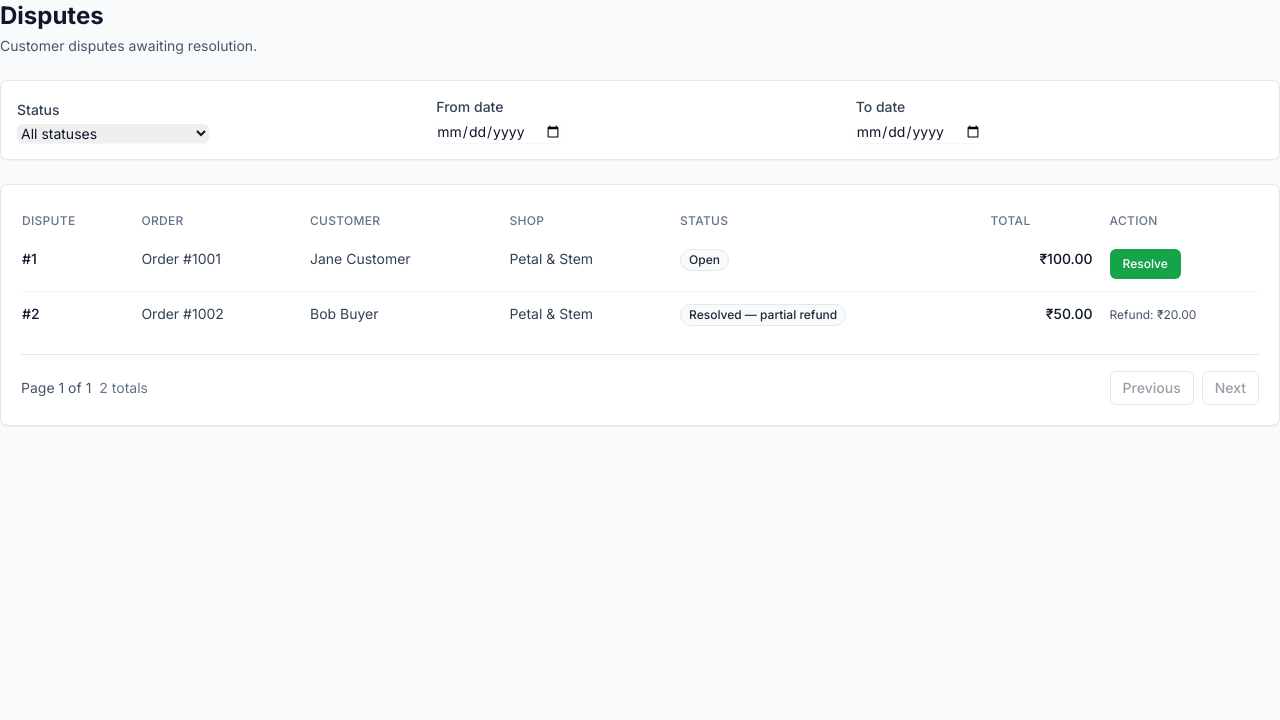
Test case: AdminDisputesPage › rejects partial refund exceeding order total
Click the button "Resolve": (1145,264) [1110, 249, 1181, 279]
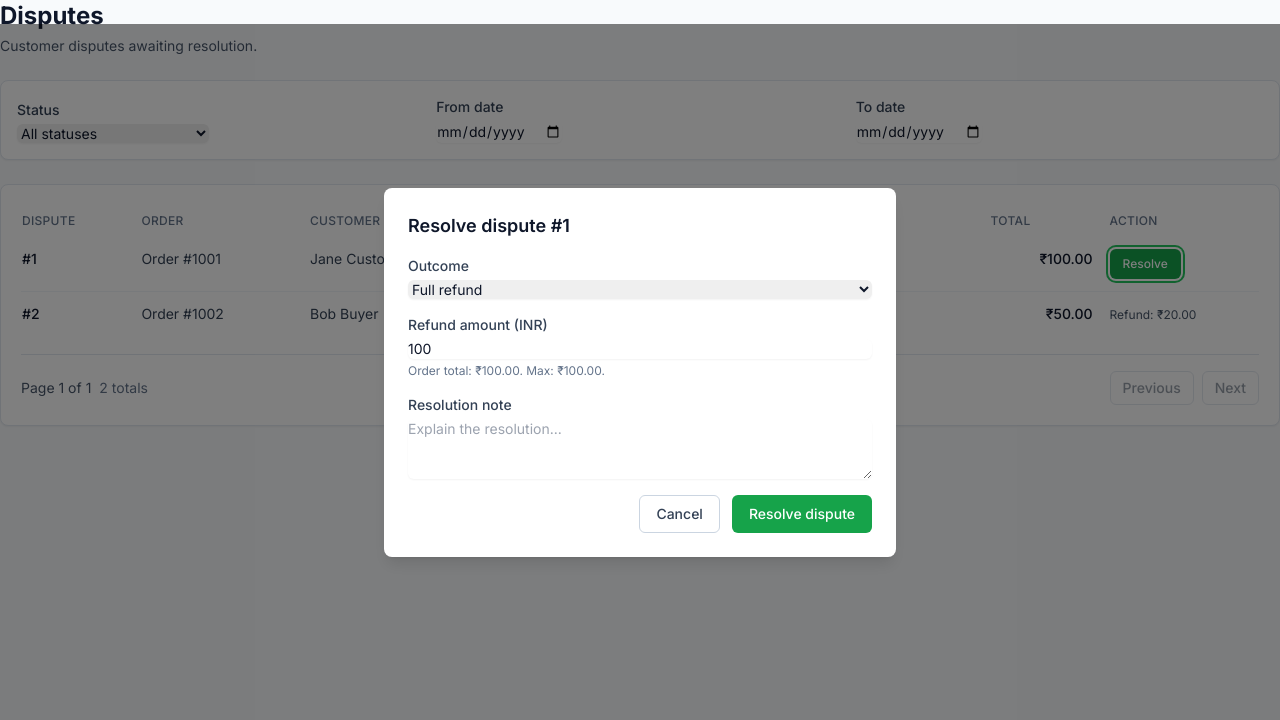
Now the dropdown labelled "Outcome" is shown
Select "Partial refund" in the dropdown labelled "Outcome": (640,289) [408, 280, 872, 298]
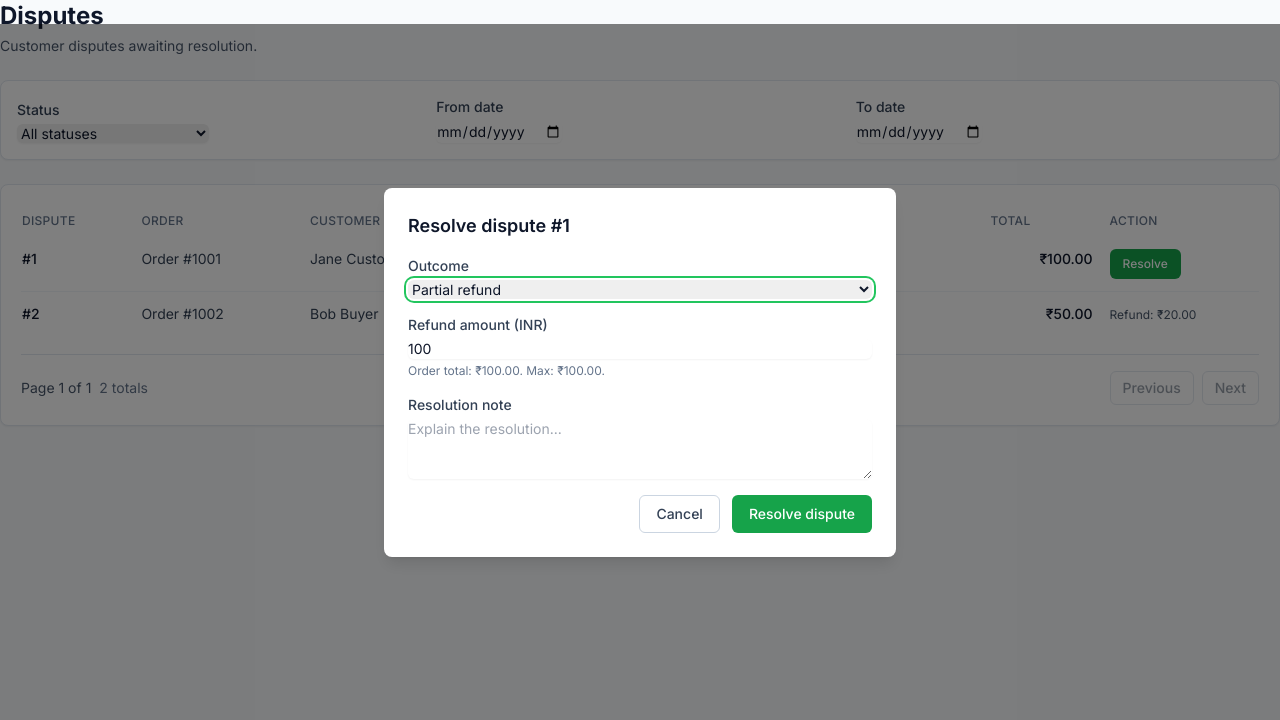
In the number field labelled "Refund amount (INR)": (640,348) [408, 338, 872, 358], type "150"
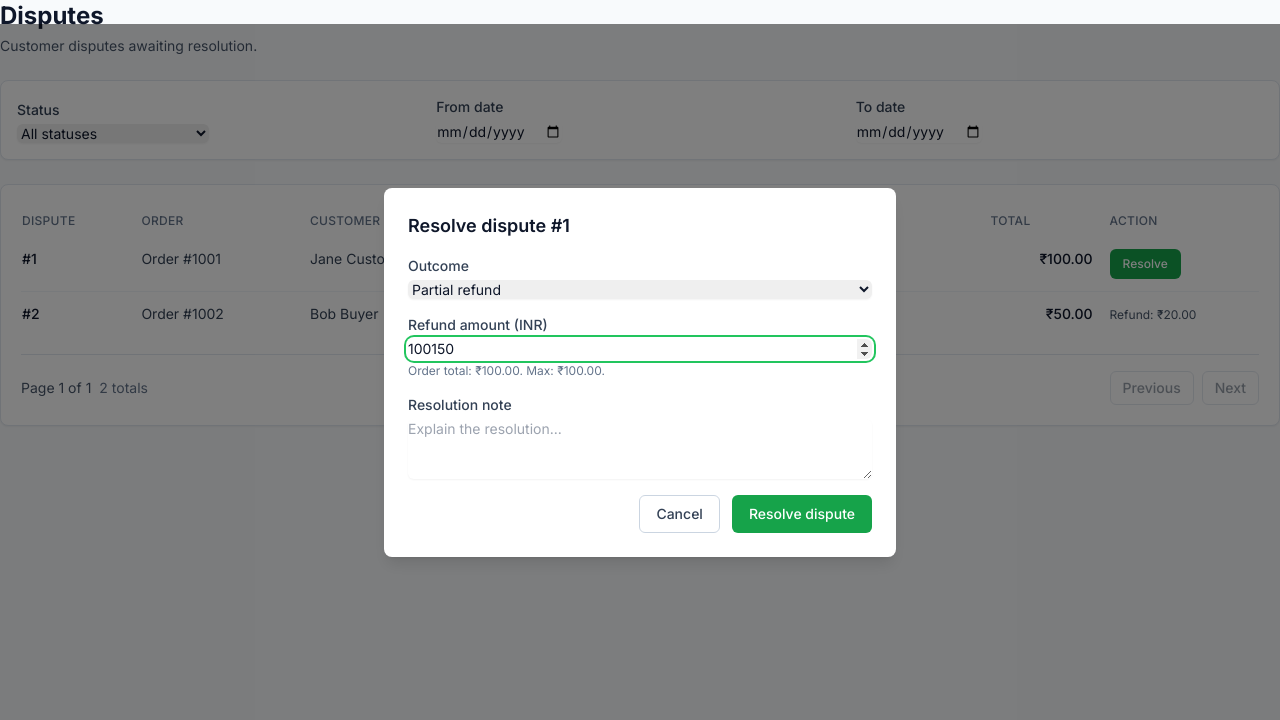
In the text box labelled "Resolution note": (640,448) [408, 418, 872, 478], type "Partial refund"
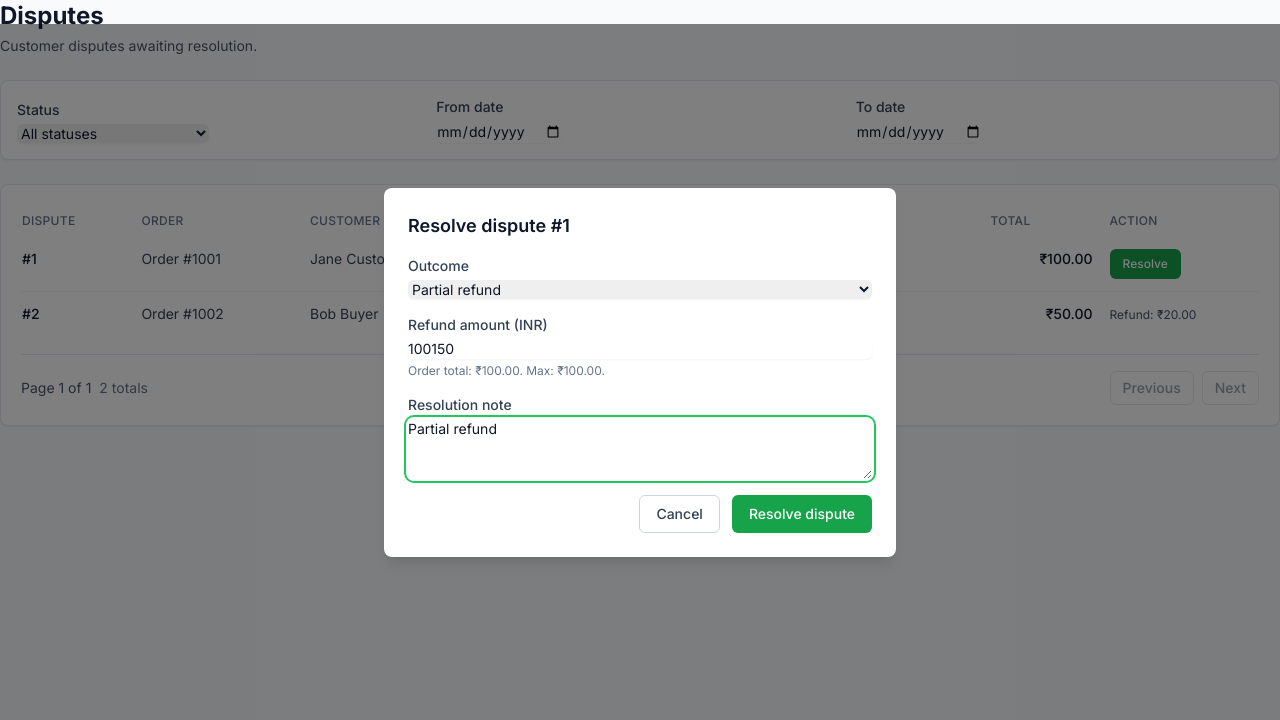
Click the button "Resolve dispute": (802,514) [732, 494, 872, 532]
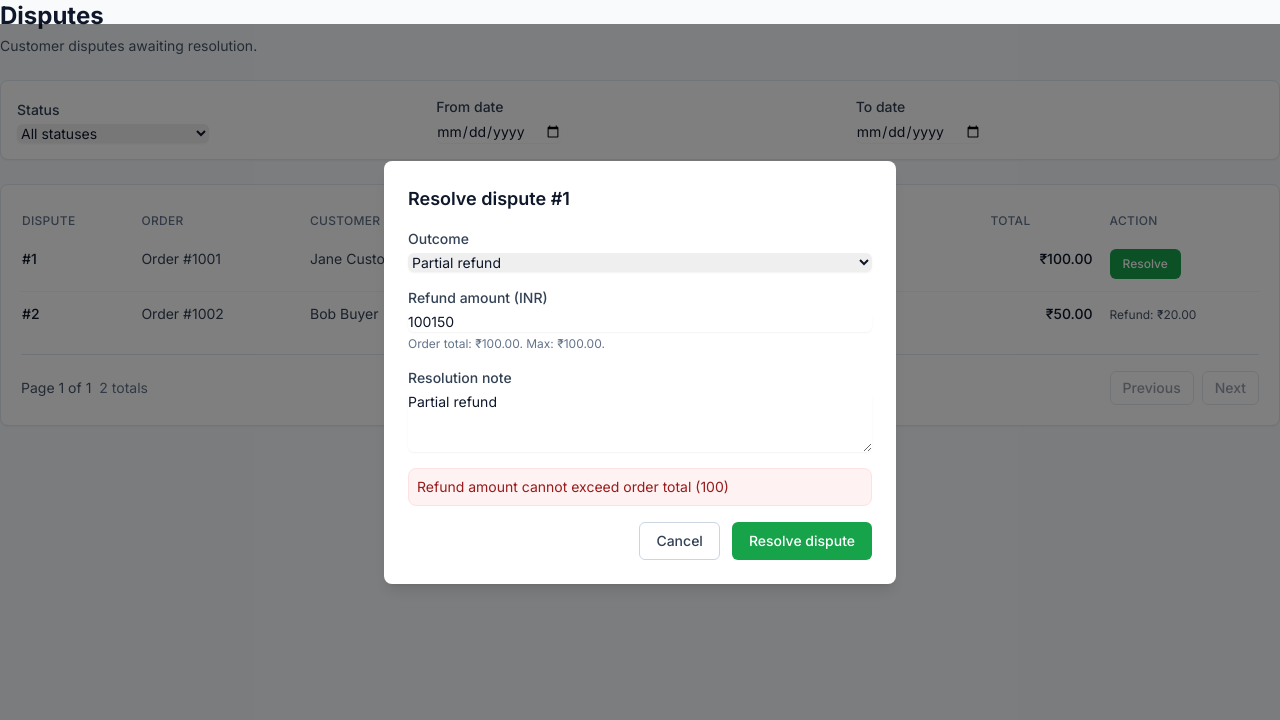
Now the text "Refund amount cannot exceed order total (100)" is shown, box [408, 468, 872, 506]
